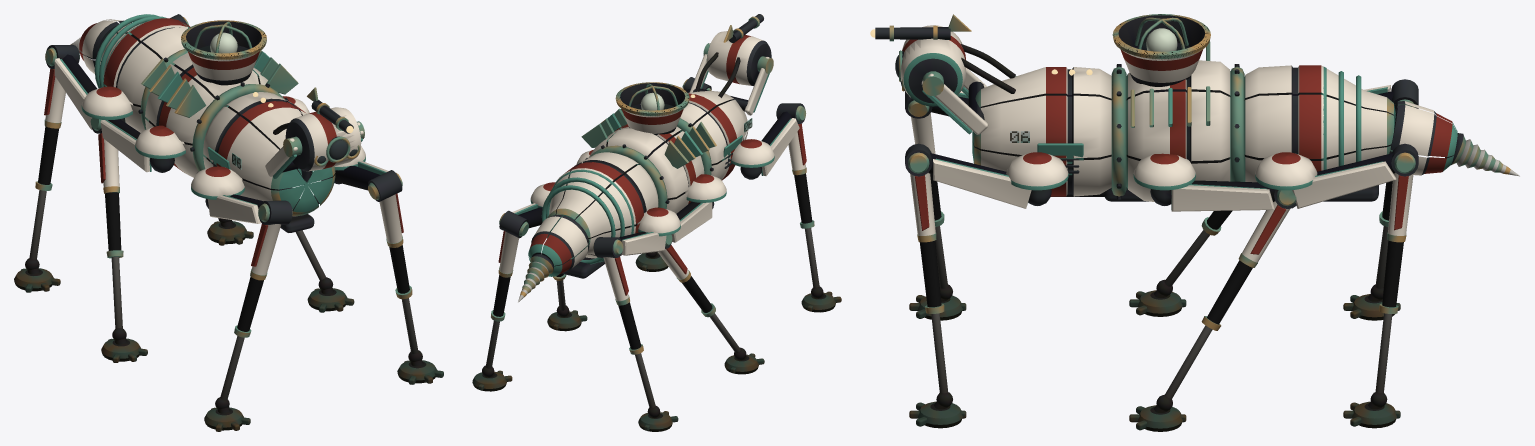
File: tiller.glb
The picture shows the model from 3 angles, left to right: view 1: azimuth 30°, elevation 25°; view 2: azimuth 150°, elevation 25°; view 3: azimuth 270°, elevation 25°; orthographic projection. The views are drawn at different scales.
Parts seen in each view (by area): view 1: tiller-hull; view 2: tiller-hull, tiller-auger; view 3: tiller-hull, tiller-auger.
Part boxes in pixels (box(x1,y1,x2,y2)): tiller-hull: box(14, 14, 443, 431); tiller-hull: box(472, 14, 841, 431); tiller-auger: box(518, 254, 553, 302); tiller-hull: box(875, 14, 1457, 431); tiller-auger: box(1445, 133, 1519, 176).
Size of what is drawn, in the model's own units: 2.2 by 2.68 by 4.49.
2 materials, 1 textured.
